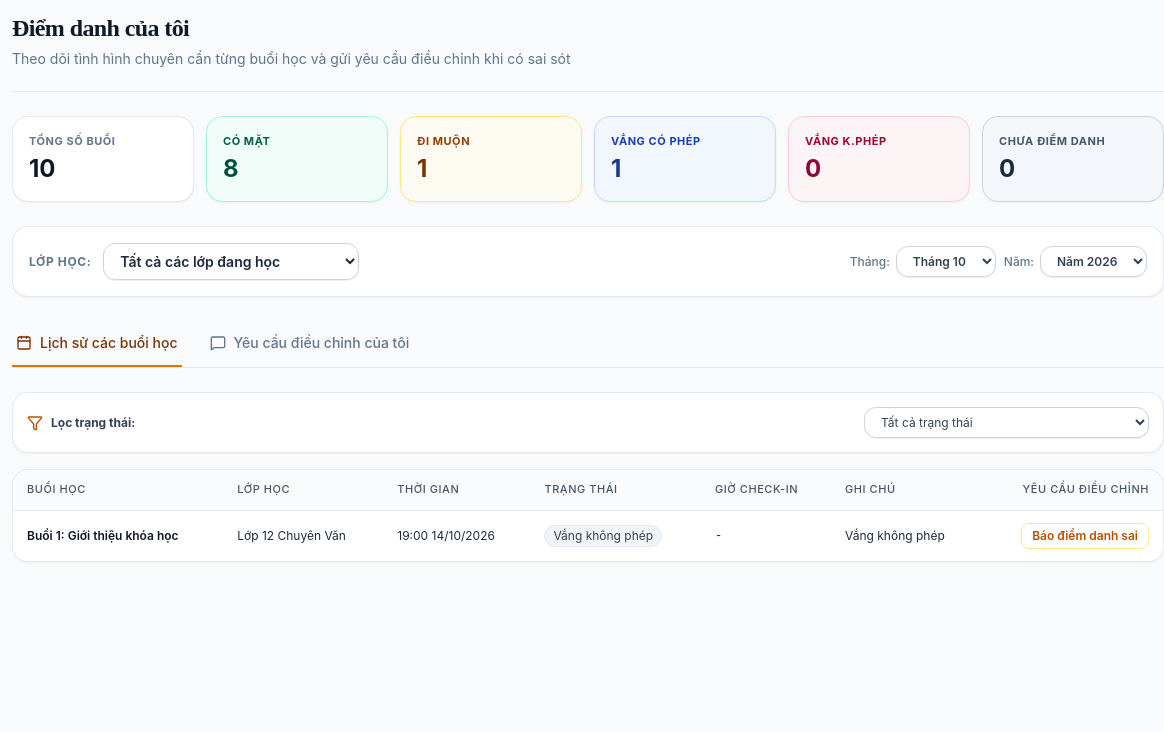
Test: StudentAttendancePage › switches to My Requests tab and displays submitted requests
The width and height of the screenshot is (1164, 732).
Check: the text "Buổi 1: Giới thiệu khóa học" is shown, box x1=13 y1=510 x2=223 y2=561
Click the button "Yêu cầu điều chỉnh của tôi": (309, 344) x1=206 y1=321 x2=413 y2=367
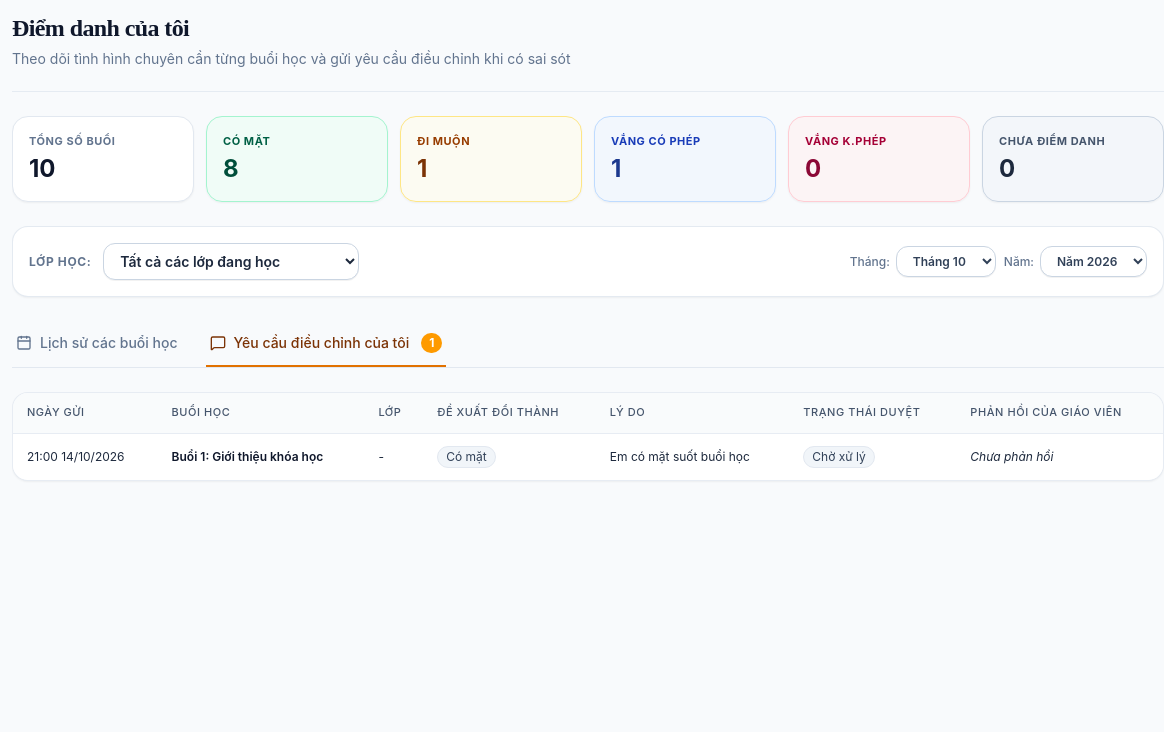
Check: the text "Em có mặt suốt buổi học" is shown, box x1=610 y1=449 x2=750 y2=464
Check: the text "Chờ xử lý" is shown, box x1=803 y1=446 x2=875 y2=468
